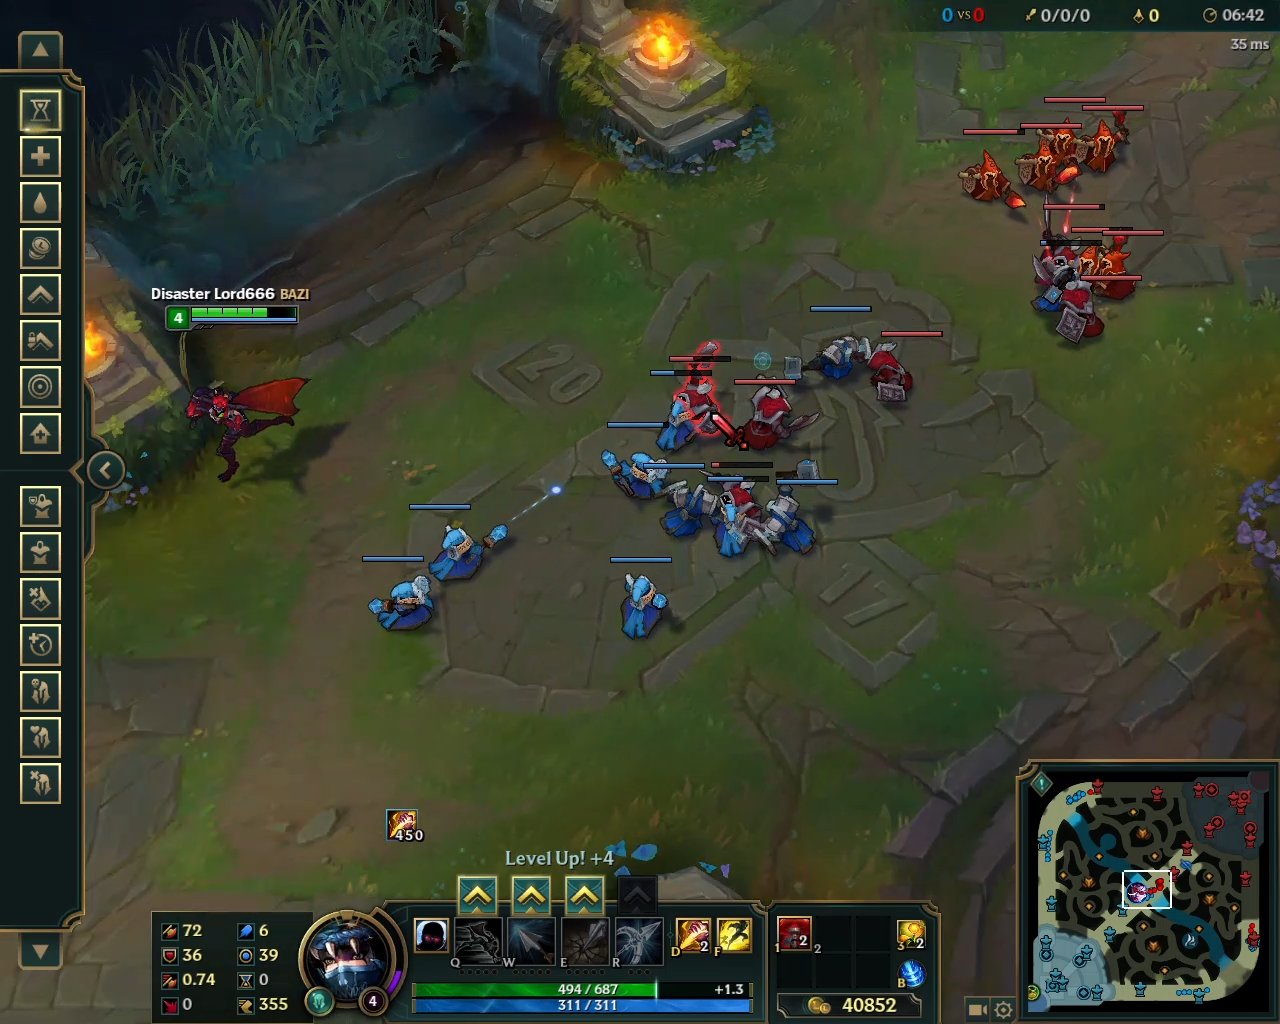EnemyMinion: (734, 376, 825, 456), (665, 342, 739, 438), (855, 330, 945, 404), (1049, 276, 1139, 348), (1075, 228, 1163, 301), (960, 126, 1023, 217), (1074, 104, 1144, 174), (1018, 123, 1083, 196)
Vayne: (183, 367, 329, 490)
